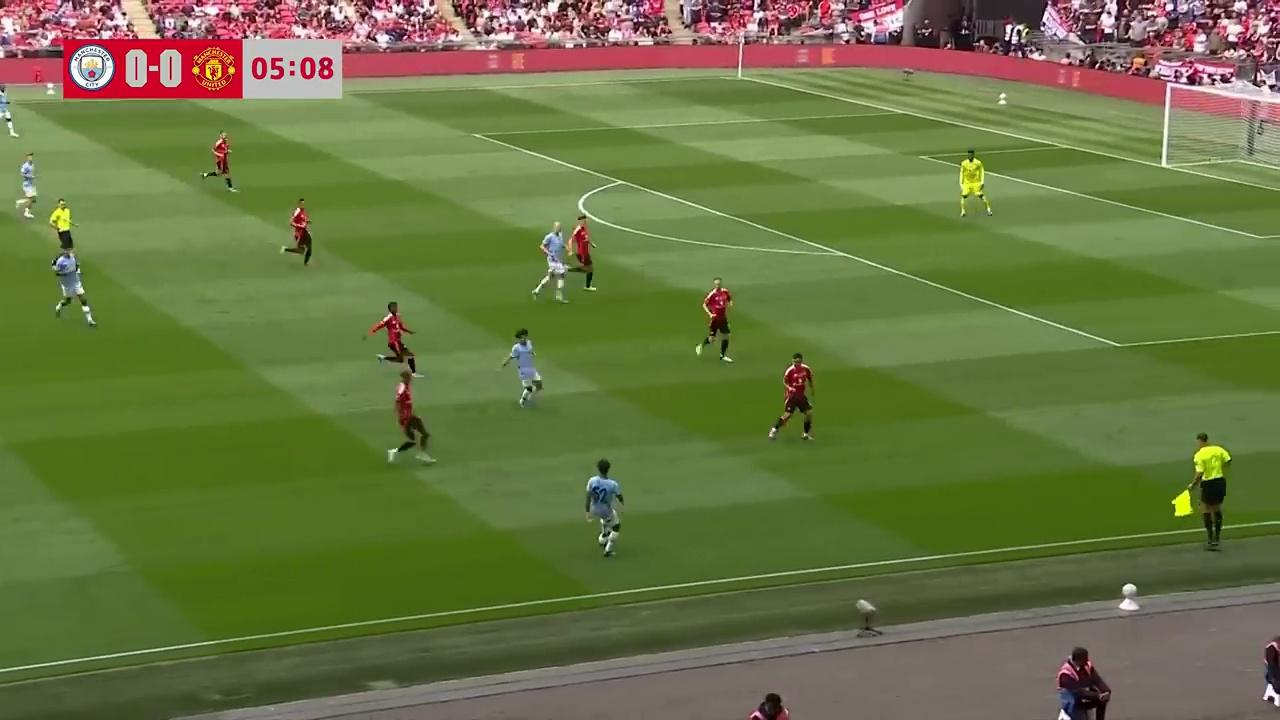player: (386, 368, 436, 465), (767, 352, 815, 443), (584, 458, 624, 558), (51, 244, 97, 325), (364, 301, 415, 368), (695, 278, 734, 363), (500, 327, 541, 407), (532, 225, 569, 303), (563, 217, 597, 290), (958, 149, 992, 218), (202, 130, 237, 192), (282, 198, 313, 267), (16, 150, 37, 220), (0, 86, 19, 137)
referee: (1179, 433, 1231, 552), (47, 197, 74, 252)
